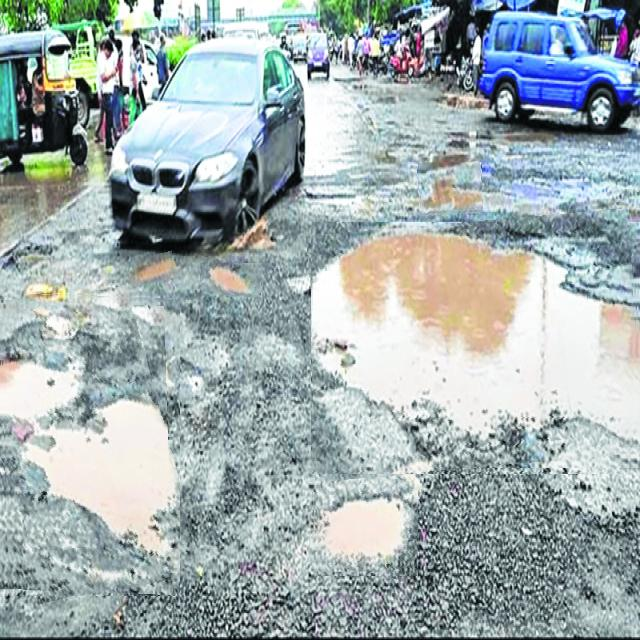Pothole: (311, 215, 640, 474), (0, 292, 180, 596), (311, 469, 418, 576), (417, 162, 482, 215), (199, 259, 262, 297), (128, 253, 177, 286)
